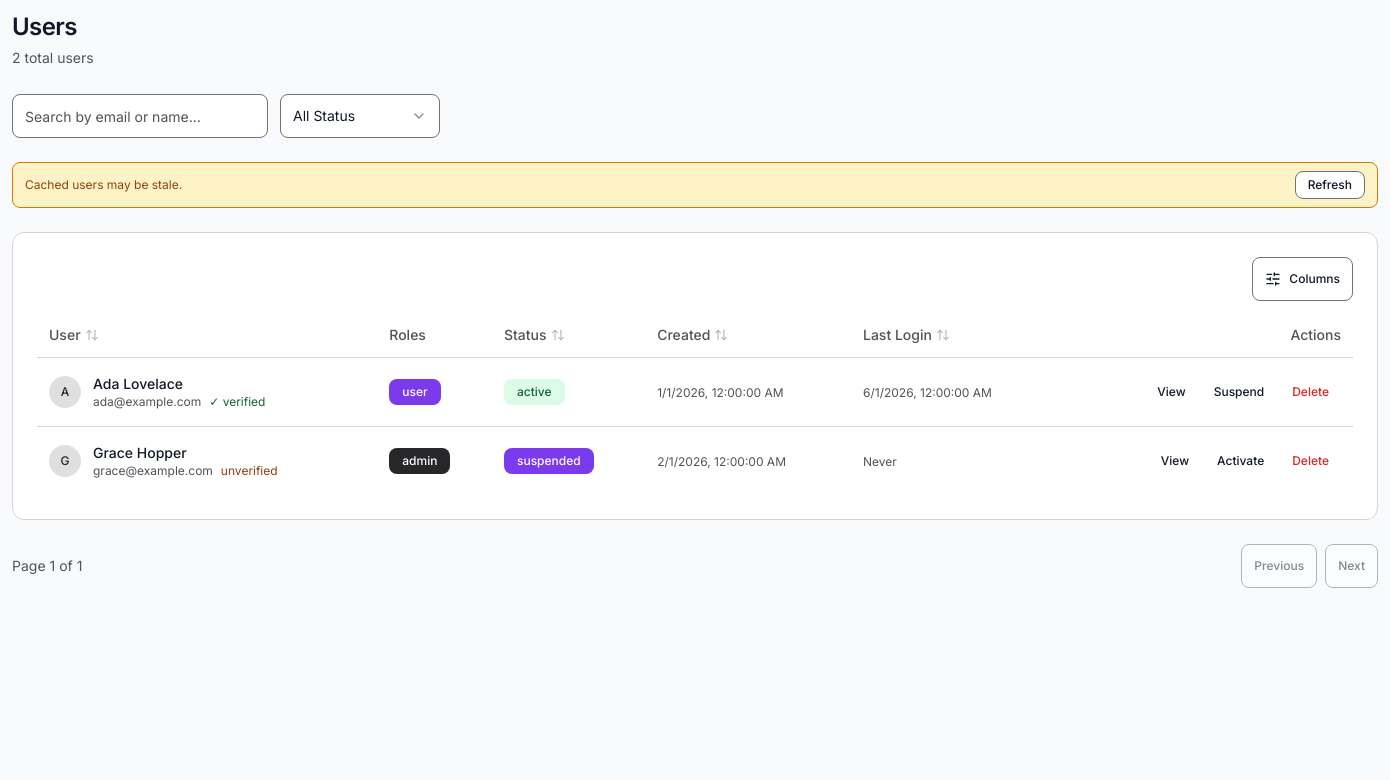
Admin UsersPage › deletes a user after confirming
Expected: the text "Ada Lovelace" is shown, [93,374,183,392]
Click the button "Delete" in the row of "Ada Lovelace" at (1311, 392), box [1280,370,1341,414]
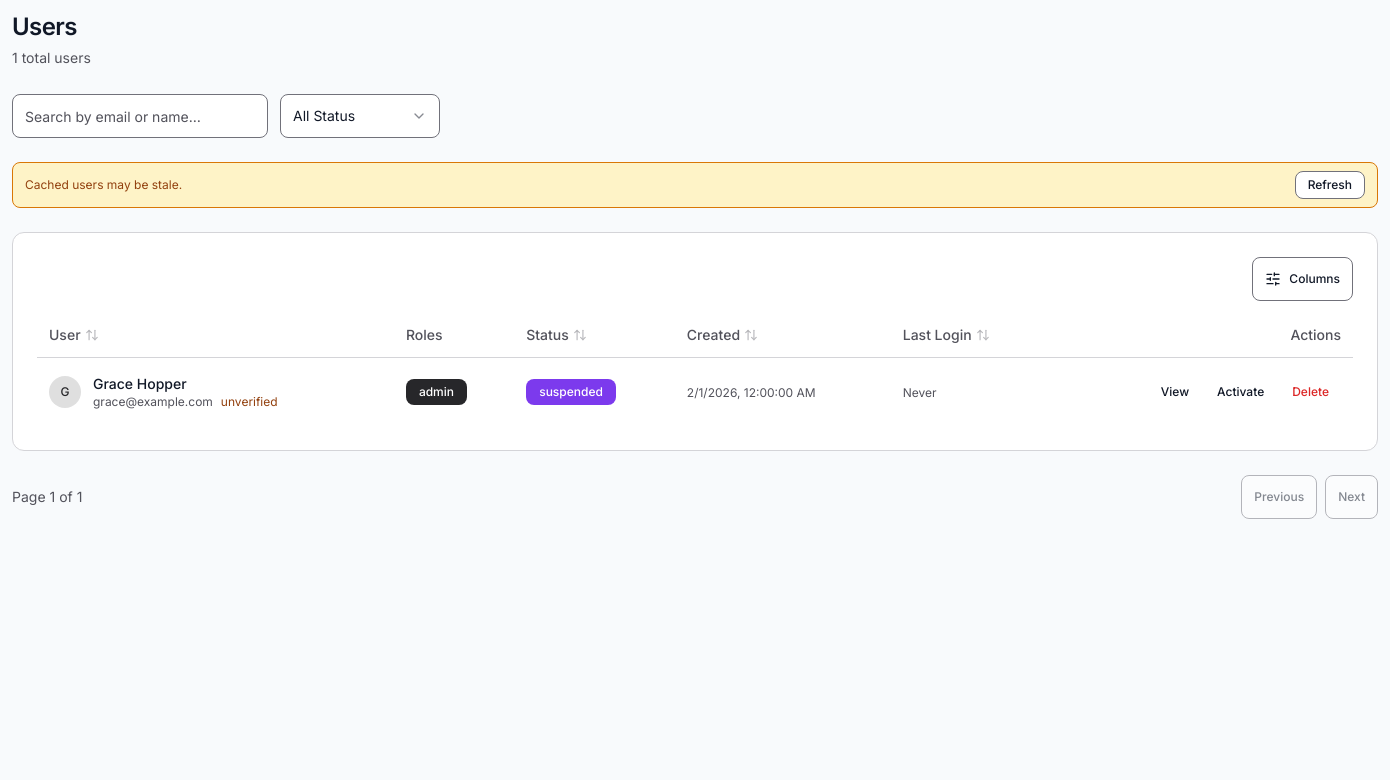
Expected: the text "Ada Lovelace" is gone
